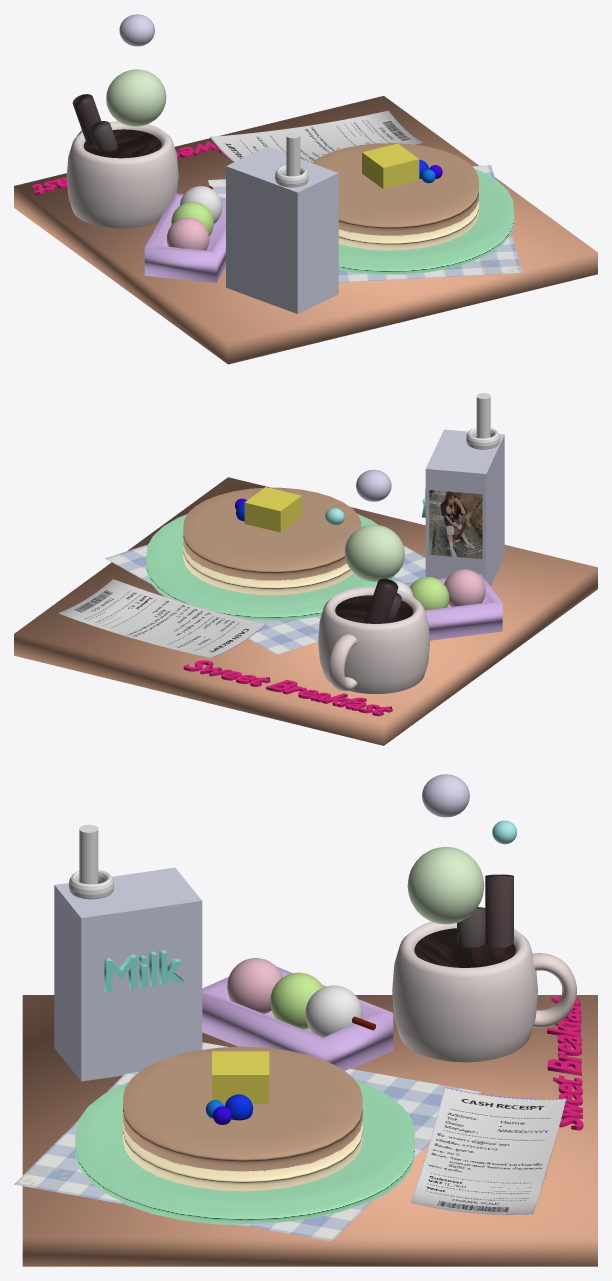
The model's file is Breakfastfinalversion.glb.
The picture shows the model from 3 angles, top to bottom: view 1: azimuth 30°, elevation 25°; view 2: azimuth 150°, elevation 25°; view 3: azimuth 270°, elevation 25°; orthographic projection. The views are drawn at different scales.
Visible parts, largest first — view 1: Plane, Cube, Cylinder.004, Torus, Cylinder, SurfPatch, Cube.002, Sphere, Plane.001, Cylinder.003, Cube.001, Cylinder.001 (+9 smaller); view 2: Plane, Cylinder.004, SurfPatch, Torus, Cube, Cylinder, Plane.002, Plane.001, Sphere, Cube.002, Cylinder.003, Text.002 (+9 smaller); view 3: Plane, Cube, Cylinder.004, Cylinder, SurfPatch, Torus, Plane.001, Cube.002, Cylinder.003, Sphere, Text.002, Cube.001 (+11 smaller).
Part boxes in pixels (<box>): Plane: <box>14,96,597,364</box>; Cube: <box>226,146,338,313</box>; Cylinder.004: <box>312,143,478,235</box>; Torus: <box>66,121,178,228</box>; Cylinder: <box>338,169,513,274</box>; SurfPatch: <box>210,110,423,162</box>; Cube.002: <box>144,193,225,282</box>; Sphere: <box>106,69,166,126</box>; Plane.001: <box>208,165,522,282</box>; Cylinder.003: <box>338,201,478,250</box>; Cube.001: <box>362,143,419,188</box>; Cylinder.001: <box>84,129,161,158</box>; Plane: <box>14,477,597,745</box>; Cylinder.004: <box>183,487,361,580</box>; SurfPatch: <box>58,579,266,657</box>; Torus: <box>318,587,429,693</box>; Cube: <box>425,429,504,585</box>; Cylinder: <box>146,514,395,620</box>; Plane.002: <box>429,489,482,558</box>; Plane.001: <box>105,544,425,654</box>; Sphere: <box>344,524,404,581</box>; Cube.002: <box>405,573,502,640</box>; Cylinder.003: <box>183,545,353,594</box>; Text.002: <box>183,660,392,716</box>; Plane: <box>22,995,597,1266</box>; Cube: <box>54,867,202,1081</box>; Cylinder.004: <box>123,1046,362,1171</box>; Cylinder: <box>75,1079,414,1225</box>; SurfPatch: <box>411,1087,566,1214</box>; Torus: <box>392,921,537,1062</box>; Plane.001: <box>14,1042,480,1241</box>; Cube.002: <box>202,966,393,1070</box>; Cylinder.003: <box>123,1121,362,1191</box>; Sphere: <box>407,847,484,924</box>; Text.002: <box>547,995,583,1130</box>; Cube.001: <box>212,1051,269,1103</box>.
Bounding box in the file's own units: 12.24 × 6.7 × 12.18.
26 materials, 4 textured.
